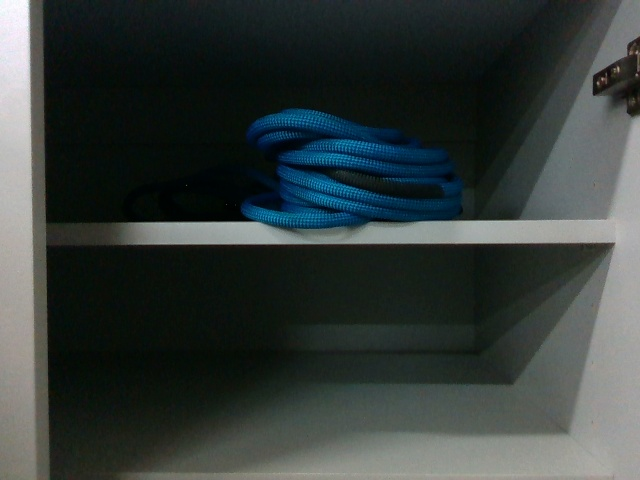rope: (243, 112, 463, 228)
